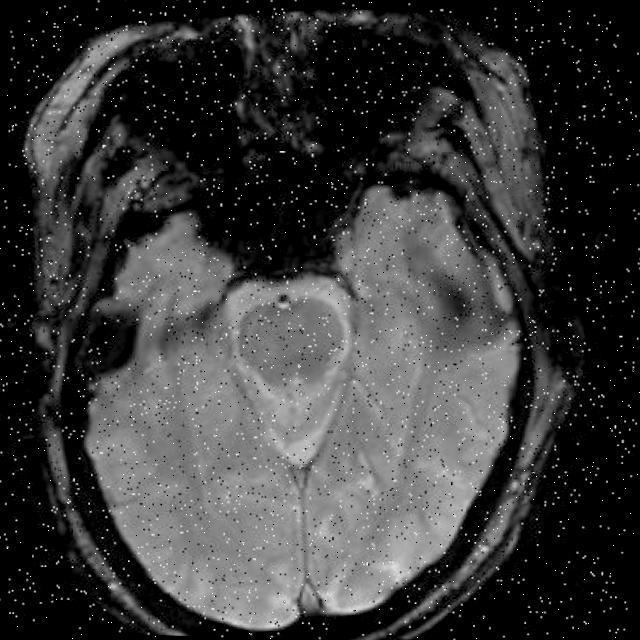CN: (408, 237, 504, 354)
LMCI: (61, 278, 174, 410)
